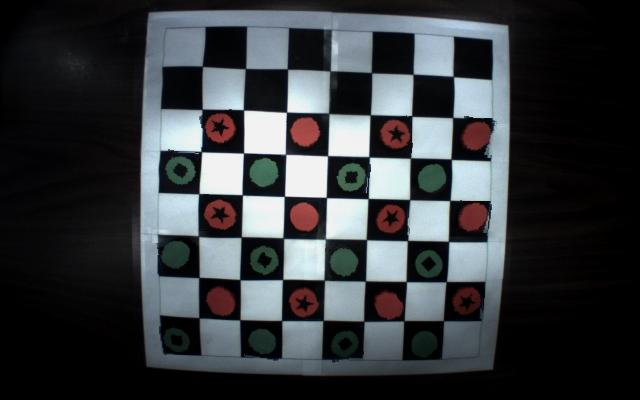G: (162, 151, 200, 188), (248, 240, 283, 276), (326, 328, 363, 362), (335, 160, 370, 193), (160, 323, 194, 355), (413, 248, 445, 280)
R: (375, 116, 412, 153), (200, 111, 238, 147), (200, 196, 238, 232), (372, 202, 410, 237), (287, 285, 321, 321), (450, 285, 484, 321)
g: (157, 238, 196, 274), (245, 155, 281, 191), (327, 244, 363, 280), (245, 324, 281, 360), (406, 327, 442, 361), (416, 163, 449, 196)
r: (458, 118, 497, 157), (201, 283, 237, 319), (288, 116, 324, 150), (288, 198, 321, 233), (458, 201, 491, 236), (370, 287, 404, 320)
